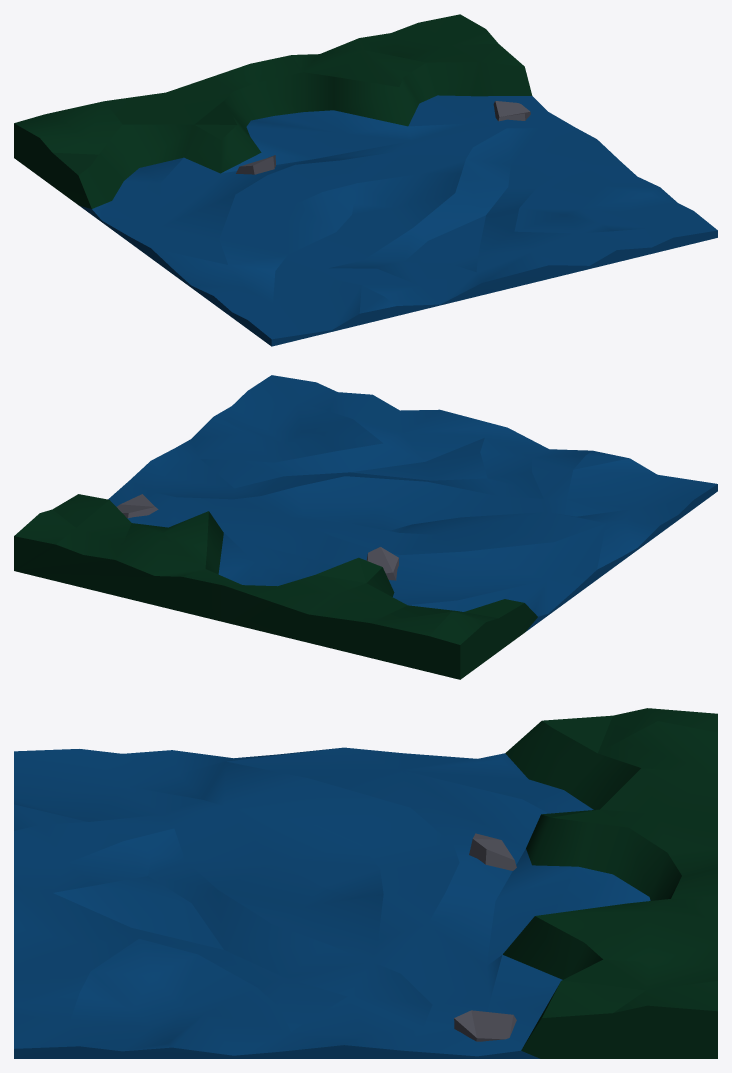
The model's file is Water_Edge_U.fbx.
3 renders of one model, top to bottom at view 1: azimuth 30°, elevation 25°; view 2: azimuth 150°, elevation 25°; view 3: azimuth 270°, elevation 25°, orthographic. The views are drawn at different scales.
Parts seen in each view (by area): view 1: Water_Edge_U; view 2: Water_Edge_U; view 3: Water_Edge_U.
Boxes of the visible parts, left/top/right/bottom form: Water_Edge_U: left=14, top=14, right=717, bottom=346; Water_Edge_U: left=14, top=375, right=717, bottom=679; Water_Edge_U: left=14, top=708, right=717, bottom=1058.
Size of the model in its own units: 147 by 15.12 by 147.
